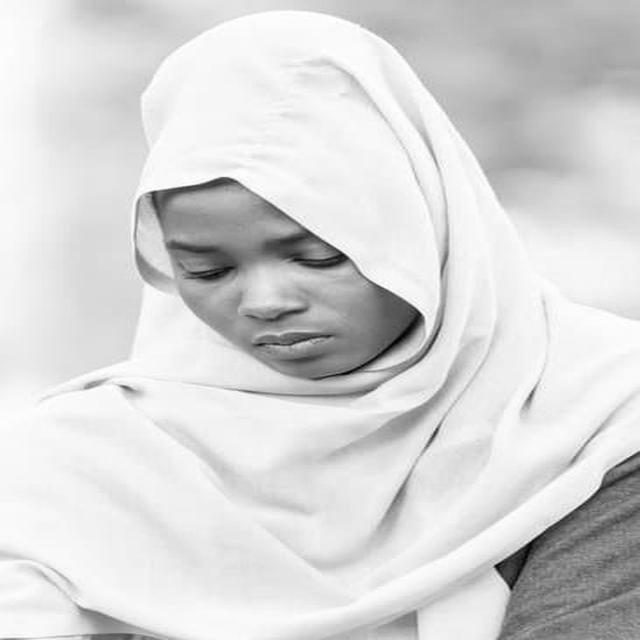Sadness: (161, 185, 396, 381)
